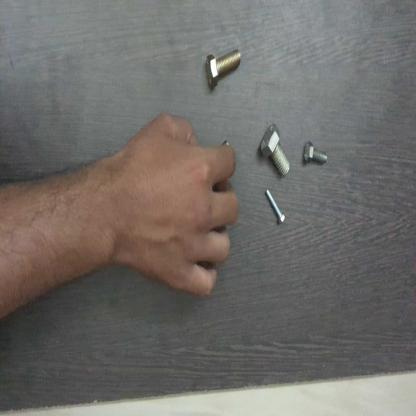Bolts: (253, 118, 291, 182), (200, 47, 247, 89), (298, 133, 334, 177), (262, 187, 290, 227)
